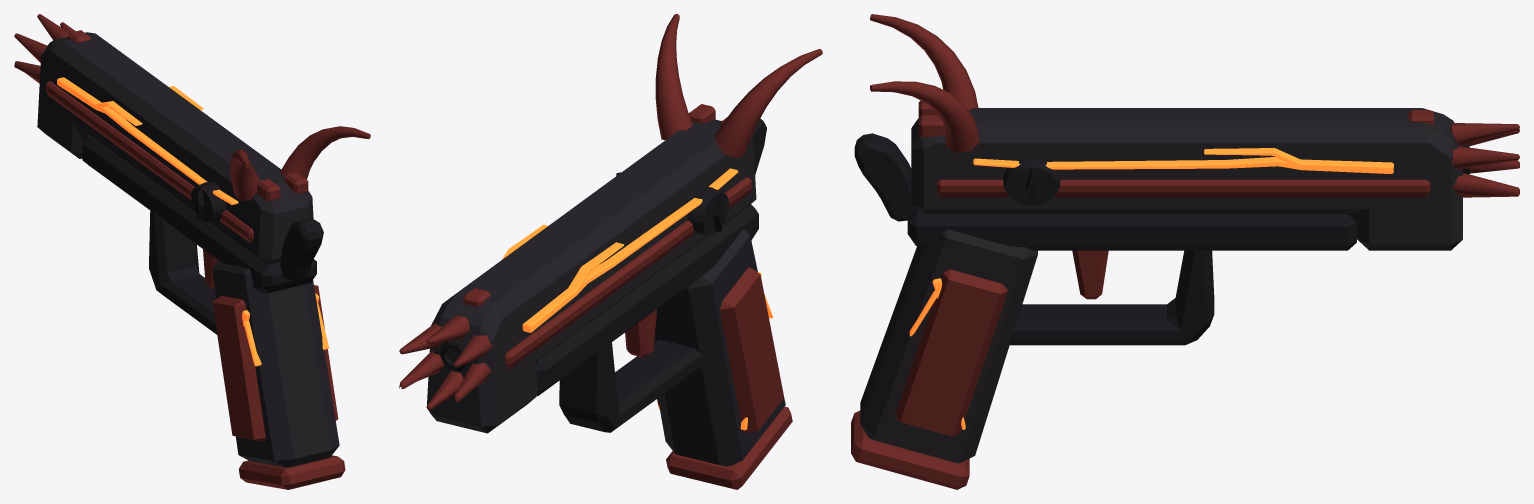
File: w_pistol@pistol_infernal.glb
3 renders of one model, left to right at view 1: azimuth 30°, elevation 25°; view 2: azimuth 150°, elevation 25°; view 3: azimuth 270°, elevation 25°, orthographic. The views are drawn at different scales.
Visible parts, largest first — view 1: slide_wzA, grip_wzA, body_wzB.001, slide_wzN, grip_wzN, mag_wzN, slide_wzN.002, hammer_wzN, slide_wzN.001, grip_wzN.001; view 2: slide_wzA, body_wzB.001, slide_wzN, grip_wzA, grip_wzN, slide_wzN.002, mag_wzN, slide_wzN.001, body_wzN, hammer_wzN; view 3: slide_wzA, body_wzB.001, slide_wzN, grip_wzA, grip_wzN, slide_wzN.002, mag_wzN, hammer_wzN, slide_wzN.001, body_wzN.
Boxes of the visible parts, <box> form: slide_wzA: <box>37,32,313,264</box>; grip_wzA: <box>212,260,339,467</box>; body_wzB.001: <box>82,135,316,334</box>; slide_wzN: <box>14,14,370,243</box>; grip_wzN: <box>212,285,338,441</box>; mag_wzN: <box>239,455,345,489</box>; slide_wzN.002: <box>57,77,238,204</box>; hammer_wzN: <box>280,219,323,281</box>; slide_wzN.001: <box>191,181,226,221</box>; grip_wzN.001: <box>242,293,328,366</box>; slide_wzA: <box>427,119,756,433</box>; body_wzB.001: <box>536,204,758,432</box>; slide_wzN: <box>399,14,822,409</box>; grip_wzA: <box>654,229,785,466</box>; grip_wzN: <box>657,267,784,432</box>; slide_wzN.002: <box>502,168,738,332</box>; mag_wzN: <box>666,406,792,489</box>; slide_wzN.001: <box>687,186,728,234</box>; body_wzN: <box>625,309,656,357</box>; hammer_wzN: <box>751,118,766,174</box>; slide_wzA: <box>911,108,1462,250</box>; body_wzB.001: <box>907,208,1356,345</box>; slide_wzN: <box>870,14,1519,197</box>; grip_wzA: <box>860,229,1037,463</box>; grip_wzN: <box>895,269,1008,436</box>; slide_wzN.002: <box>973,148,1393,173</box>; mag_wzN: <box>851,410,969,489</box>; hammer_wzN: <box>854,133,915,221</box>; slide_wzN.001: <box>1003,158,1060,205</box>; body_wzN: <box>1072,250,1108,299</box>.
Size of the model in its own units: 0.0952 by 0.2564 by 0.366.
